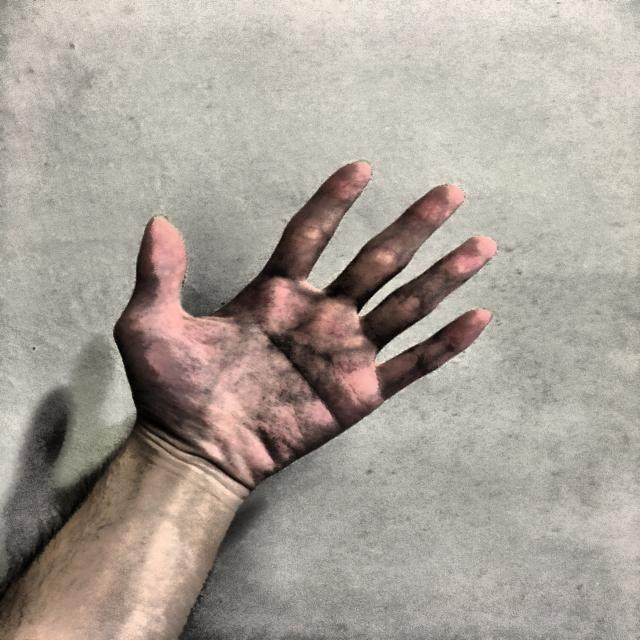not-gloved: (104, 154, 510, 504)
